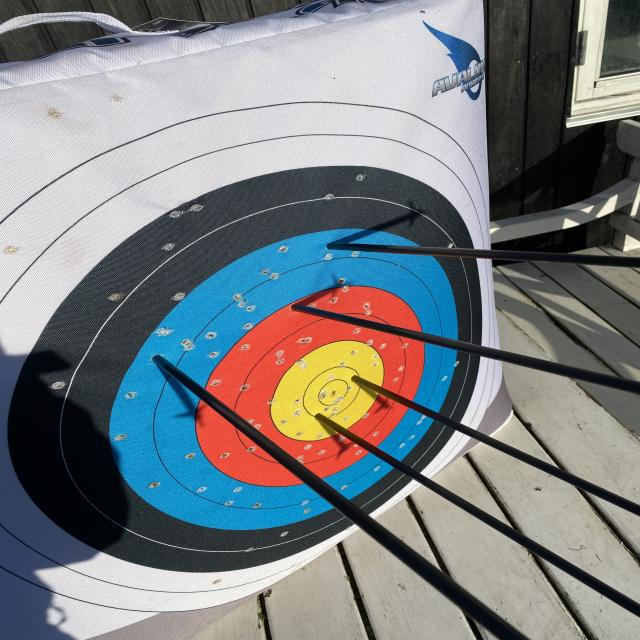Arrow_Blue: (141, 341, 179, 372), (322, 233, 345, 257)
Arrow_Red: (278, 293, 314, 316)
Arrow_Yellow: (300, 406, 338, 434), (338, 370, 369, 395)
